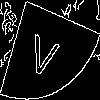V: (25, 25, 63, 80)
